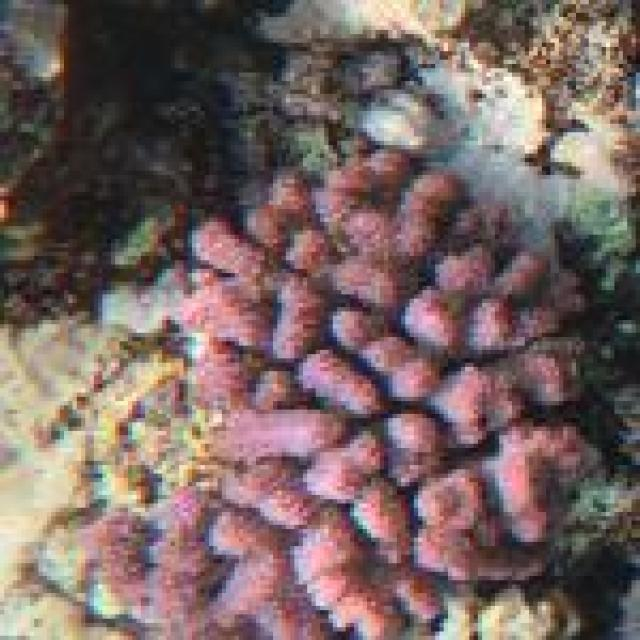Healthy Coral: (169, 140, 593, 640)
